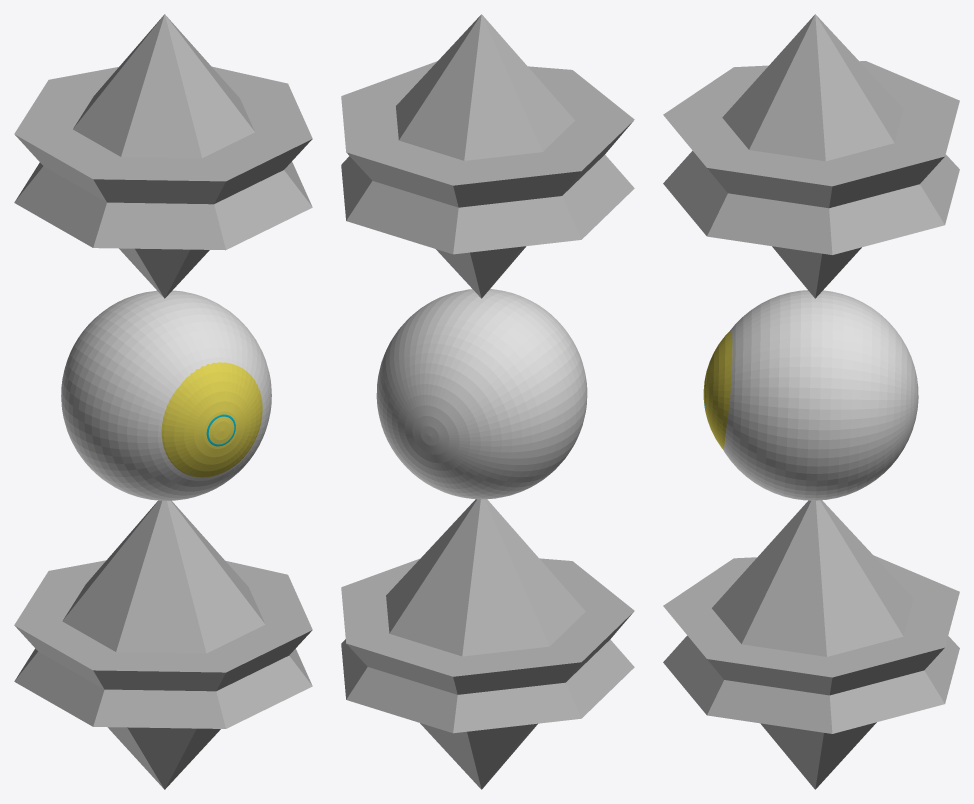
The model's file is eye-flyer-boss.glb.
The picture shows the model from 3 angles, left to right: view 1: azimuth 30°, elevation 25°; view 2: azimuth 150°, elevation 25°; view 3: azimuth 270°, elevation 25°; orthographic projection.
Parts seen in each view (by area): view 1: Mesh_Mesh_head_geo.001_lambert2SG.001; view 2: Mesh_Mesh_head_geo.001_lambert2SG.001; view 3: Mesh_Mesh_head_geo.001_lambert2SG.001.
Part boxes in pixels (left/top/right/bottom): Mesh_Mesh_head_geo.001_lambert2SG.001: left=14, top=14, right=312, bottom=789; Mesh_Mesh_head_geo.001_lambert2SG.001: left=341, top=14, right=634, bottom=789; Mesh_Mesh_head_geo.001_lambert2SG.001: left=663, top=14, right=959, bottom=789.
Size of the model in its own units: 0.0274 by 0.079 by 0.0274.
